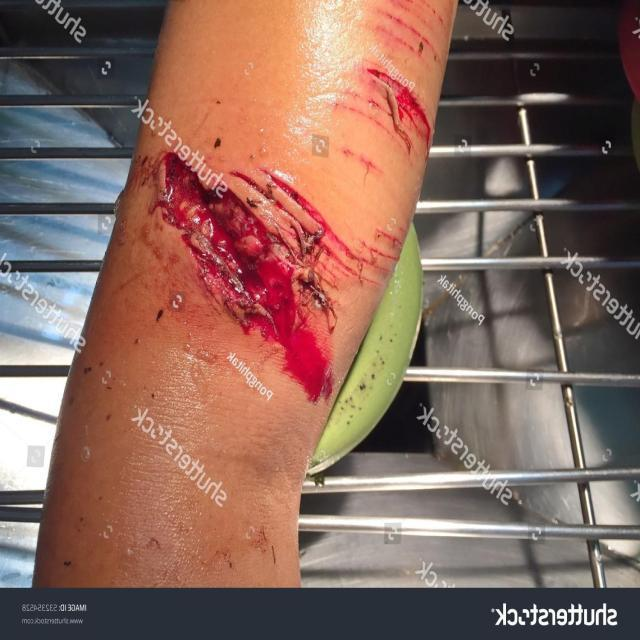flood: (152, 148, 334, 408)
